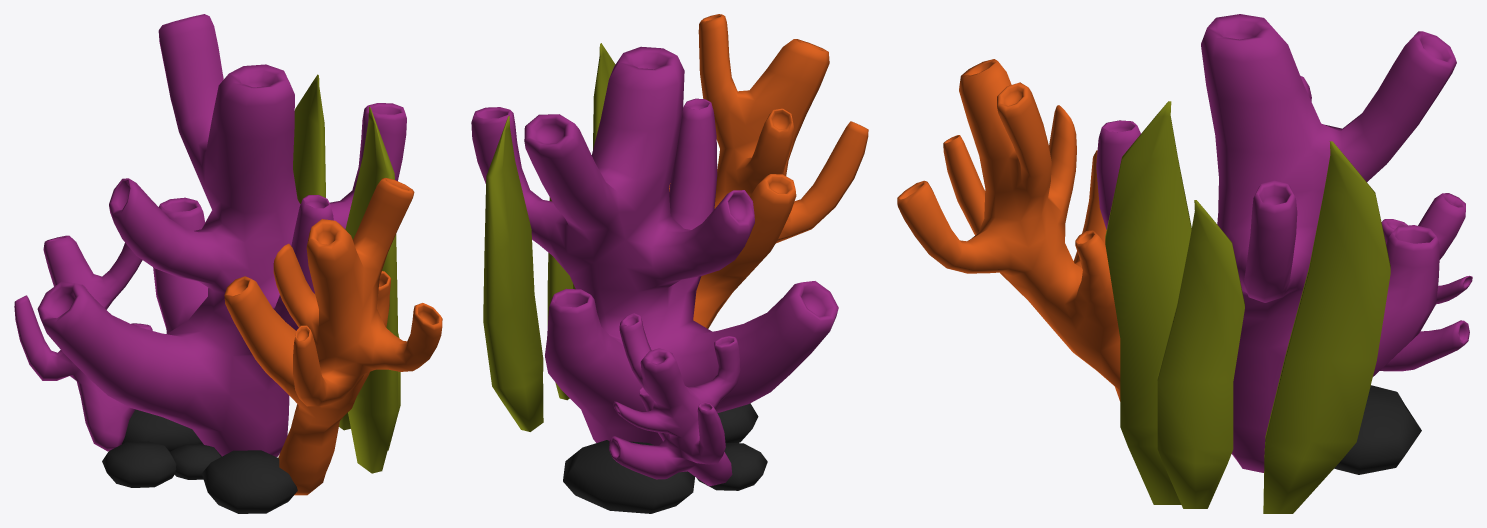
File: AssortedCoral (2) 1.fbx
3 renders of one model, left to right at view 1: azimuth 30°, elevation 25°; view 2: azimuth 150°, elevation 25°; view 3: azimuth 270°, elevation 25°, orthographic. The views are drawn at different scales.
Parts seen in each view (by area): view 1: AssortedCoral_LOD0; view 2: AssortedCoral_LOD0; view 3: AssortedCoral_LOD0.
Part boxes in pixels (x1=…): AssortedCoral_LOD0: x1=14, y1=14, x2=442, y2=513; AssortedCoral_LOD0: x1=471, y1=14, x2=868, y2=513; AssortedCoral_LOD0: x1=897, y1=14, x2=1472, y2=513.
Size of what is drawn, in the model's own units: 87.91 by 92.52 by 108.
